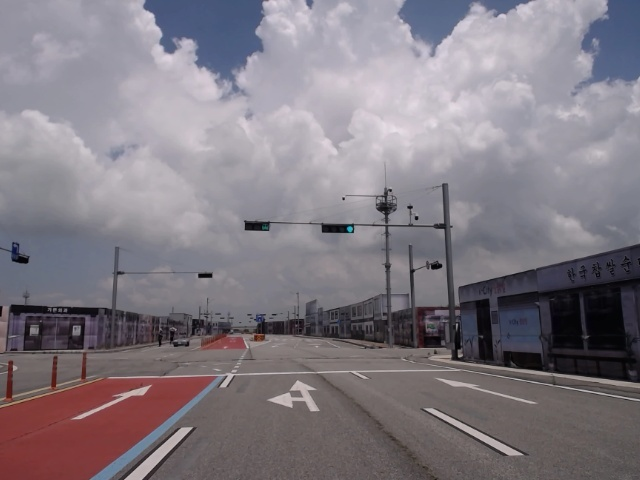straight_green_4: (322, 223, 353, 234)
